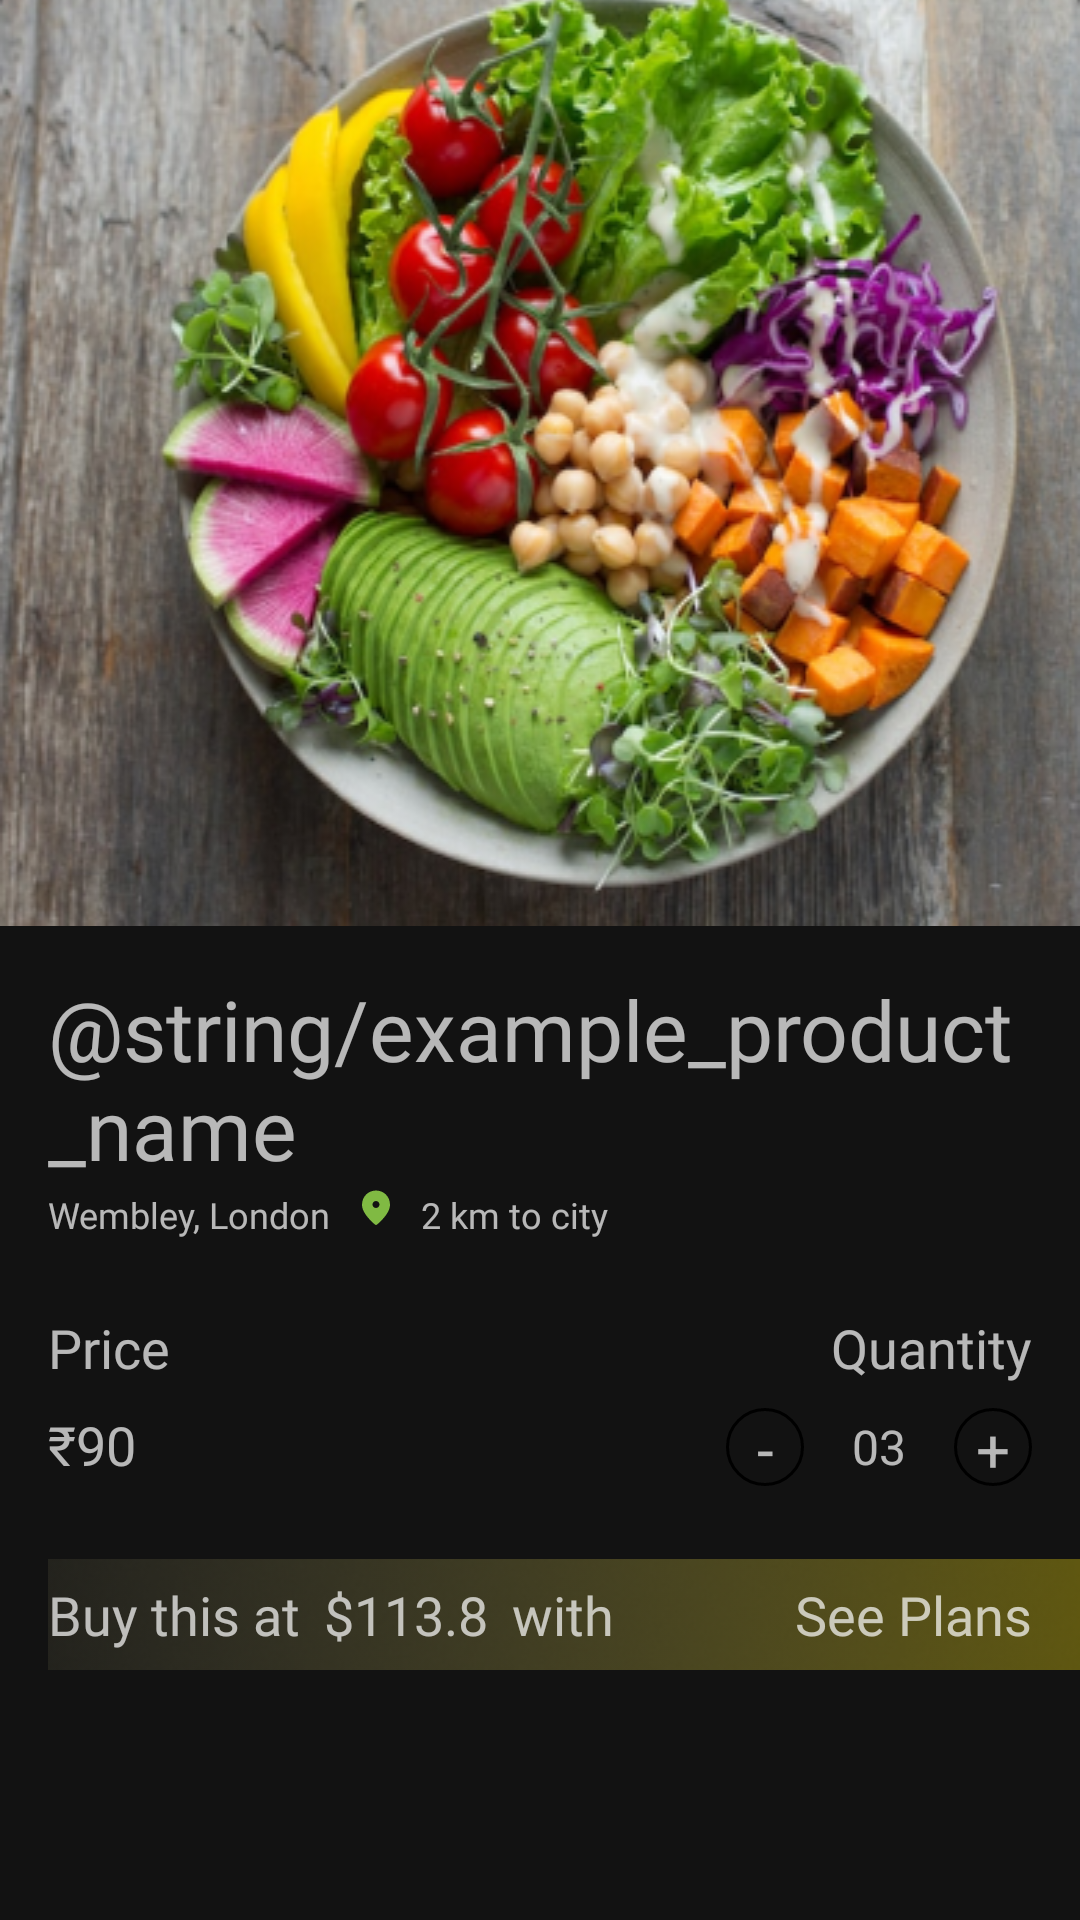

Icons on this 1080 x 1920 Android screen, each with its box as (x1, y1, x2, y2):
location: (362, 1190, 390, 1225)
